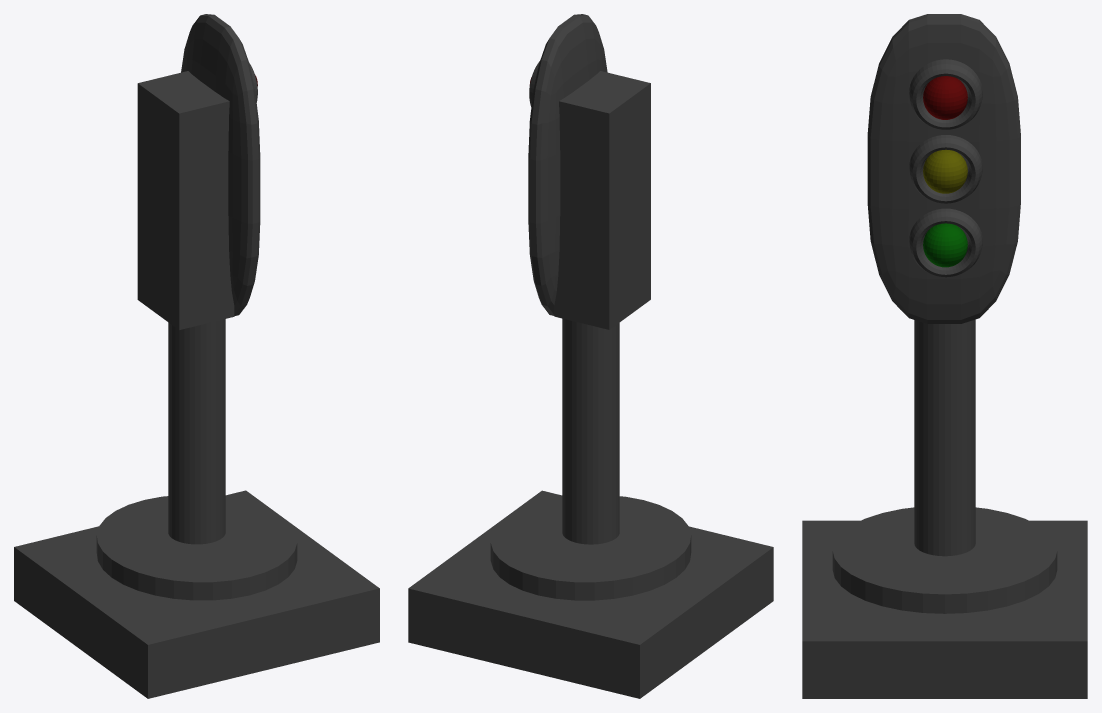
3 renders of one model, left to right at view 1: azimuth 30°, elevation 25°; view 2: azimuth 150°, elevation 25°; view 3: azimuth 270°, elevation 25°, orthographic. The views are drawn at different scales.
Visible parts, largest first — view 1: Cube, Cube.002, Cylinder, Cylinder.001, Cube.001; view 2: Cube, Cube.002, Cylinder, Cylinder.001, Cube.001; view 3: Cube, Cube.001, Cylinder, Cylinder.001, R_TORUS, G_TORUS.002, Y_TORUS.001, G_LED, R_LED, Y_LED.
Part boxes in pixels (box(x1,y1,x2,y2)): Cube: box(14, 490, 379, 698); Cube.002: box(137, 71, 234, 330); Cylinder: box(96, 496, 297, 600); Cylinder.001: box(168, 319, 225, 544); Cube.001: box(181, 14, 260, 316); Cube: box(408, 490, 773, 698); Cube.002: box(554, 71, 650, 329); Cylinder: box(490, 496, 691, 600); Cylinder.001: box(562, 318, 619, 544); Cube.001: box(528, 14, 607, 315); Cube: box(802, 520, 1087, 698); Cube.001: box(867, 14, 1020, 323); Cylinder: box(832, 507, 1057, 613); Cylinder.001: box(914, 319, 975, 556); R_TORUS: box(909, 59, 982, 129); G_TORUS.002: box(909, 208, 982, 277); Y_TORUS.001: box(909, 135, 982, 203); G_LED: box(923, 223, 967, 267); R_LED: box(923, 76, 967, 119); Y_LED: box(923, 149, 967, 193).
Size of the model in its own units: 54.91 by 135 by 54.91.
